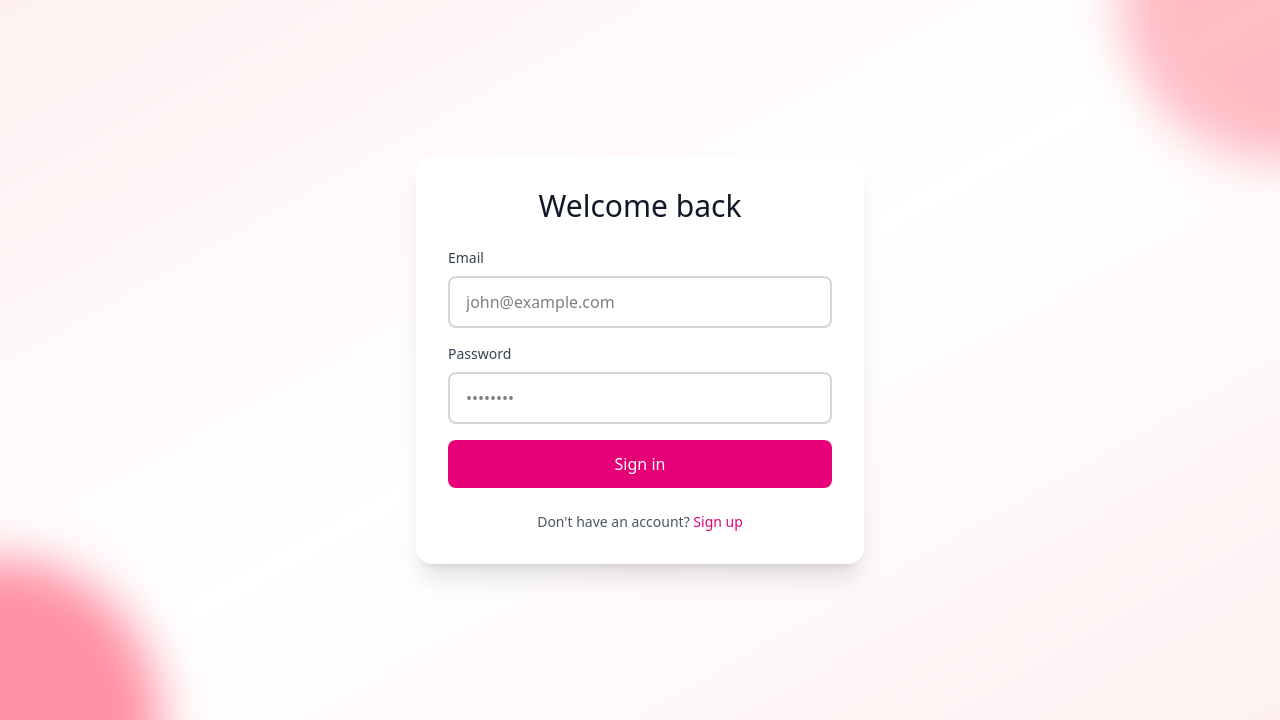
it: Login › should show validation errors for empty fields
Click the button "Sign in" at coordinates (640, 464), box [448, 440, 832, 488]
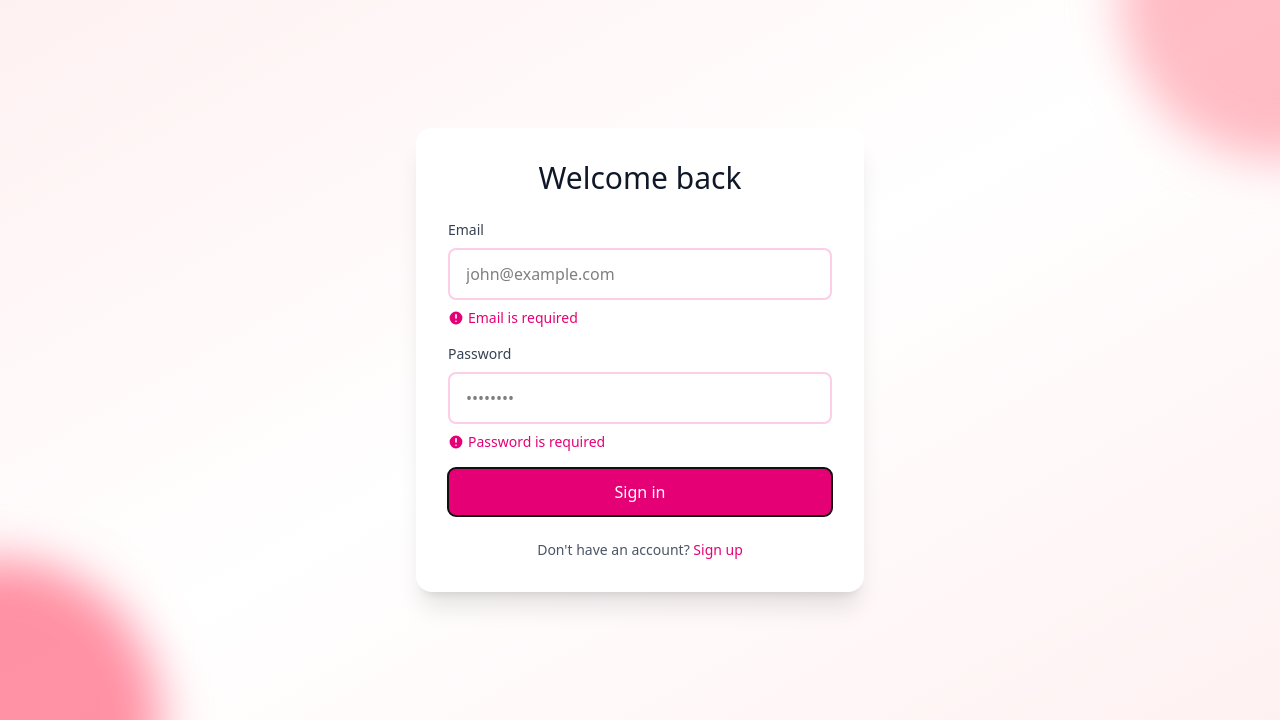
Expected: the text "Email is required" is shown, [448, 308, 578, 327]
Expected: the text "Password is required" is shown, [448, 432, 605, 451]
